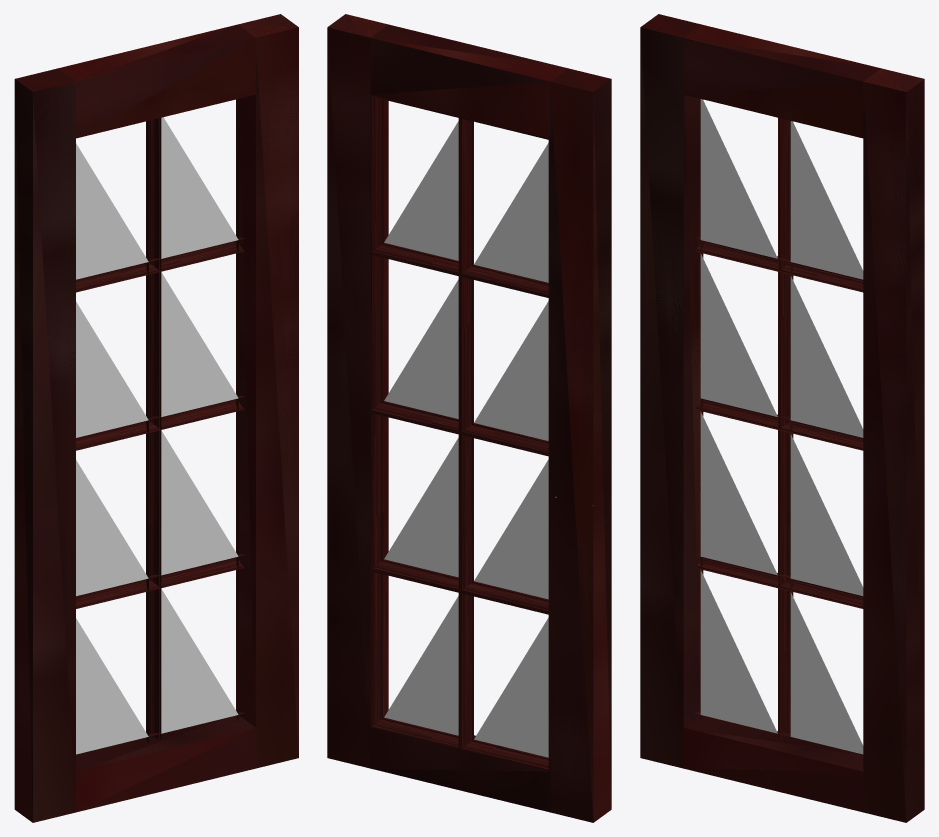
Rendered from garage_door.fbx.
3 views of the same model, side by side, from view 1: azimuth 30°, elevation 25°; view 2: azimuth 150°, elevation 25°; view 3: azimuth 330°, elevation 25° (orthographic).
Visible parts, largest first — view 1: door_02_80x210_door; view 2: door_02_80x210_door; view 3: door_02_80x210_door.
Boxes of the visible parts, x1,y1,x2,y2 form: door_02_80x210_door: (14,14,298,822); door_02_80x210_door: (327,14,611,822); door_02_80x210_door: (640,14,924,822).
Size of the model in its own units: 80 by 210 by 10.
